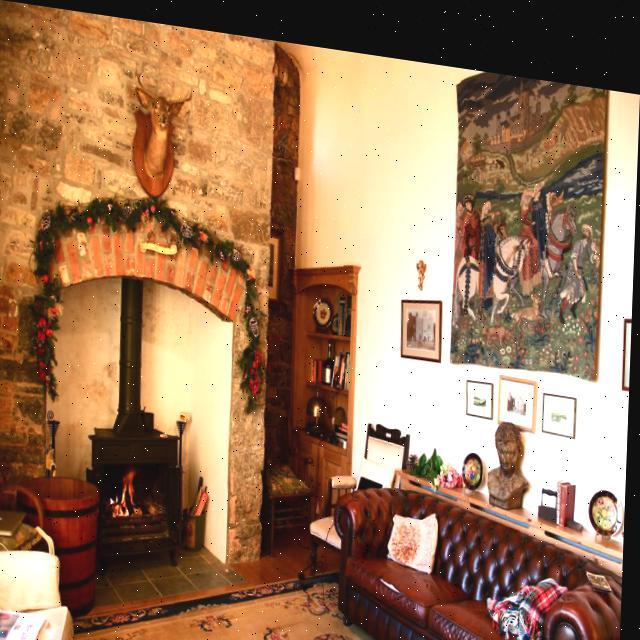Fire: (111, 470, 149, 514)
